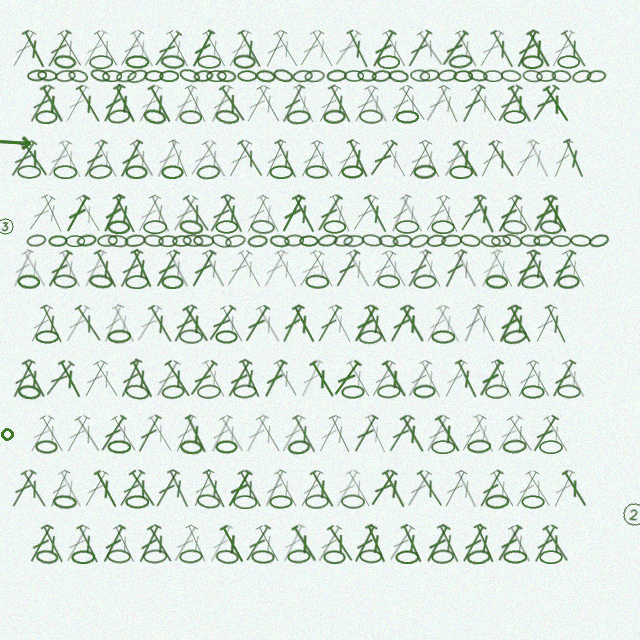chain: (142, 107, 167, 126), (214, 108, 240, 126), (178, 218, 204, 236), (502, 328, 528, 346), (124, 383, 150, 401), (520, 273, 546, 290), (448, 53, 473, 70), (88, 163, 113, 180), (88, 273, 113, 290), (196, 493, 221, 510), (126, 67, 149, 85), (210, 232, 233, 250), (408, 232, 431, 250), (107, 108, 131, 125), (160, 54, 185, 70), (286, 109, 311, 125), (196, 164, 221, 180), (250, 219, 275, 235), (502, 219, 527, 235), (358, 329, 383, 345), (52, 494, 77, 510), (466, 549, 491, 565), (178, 67, 201, 84), (53, 54, 77, 70), (539, 219, 563, 235), (17, 384, 41, 400), (161, 384, 185, 400), (179, 439, 203, 455), (287, 439, 311, 455), (35, 549, 59, 565), (215, 549, 239, 565), (502, 439, 527, 454), (89, 67, 111, 84), (272, 67, 294, 84), (501, 232, 523, 249), (588, 232, 610, 249), (115, 68, 138, 84), (224, 233, 247, 249), (359, 109, 383, 124), (53, 274, 77, 289), (305, 274, 329, 289), (413, 274, 437, 289), (107, 329, 131, 344), (179, 329, 203, 344), (197, 384, 221, 399), (233, 384, 257, 399), (377, 384, 401, 399), (485, 384, 509, 399), (557, 384, 581, 399), (467, 439, 491, 454), (305, 494, 329, 509), (341, 494, 365, 509), (485, 494, 509, 509), (107, 549, 131, 564), (143, 549, 167, 564), (179, 549, 203, 564), (287, 549, 311, 564), (67, 68, 89, 84), (571, 68, 593, 84), (233, 54, 256, 69), (323, 109, 346, 124), (413, 164, 436, 179), (17, 274, 40, 289), (377, 274, 400, 289), (485, 274, 508, 289), (557, 274, 580, 289), (413, 384, 436, 399), (359, 549, 382, 564), (431, 549, 454, 564), (89, 55, 113, 69), (125, 55, 149, 69), (197, 55, 221, 69), (395, 110, 419, 124), (17, 165, 41, 179), (53, 165, 77, 179), (269, 165, 293, 179), (305, 165, 329, 179), (449, 165, 473, 179), (143, 220, 167, 234), (395, 220, 419, 234), (431, 220, 455, 234), (125, 275, 149, 289), (35, 330, 59, 344), (431, 330, 455, 344), (341, 385, 365, 399), (521, 385, 545, 399), (107, 440, 131, 454), (431, 440, 455, 454), (539, 440, 563, 454), (125, 495, 149, 509), (233, 495, 257, 509), (269, 495, 293, 509), (521, 495, 545, 509), (71, 550, 95, 564), (251, 550, 275, 564), (395, 550, 419, 564), (503, 550, 527, 564), (539, 550, 563, 564), (124, 233, 146, 248), (361, 233, 383, 248), (459, 233, 481, 248), (377, 55, 400, 69), (521, 55, 544, 69), (557, 55, 580, 69), (35, 110, 58, 124), (179, 110, 202, 124), (503, 110, 526, 124), (125, 165, 148, 179), (161, 165, 184, 179), (341, 165, 364, 179), (107, 220, 130, 234), (215, 220, 238, 234), (323, 220, 346, 234), (161, 275, 184, 289), (215, 330, 238, 344), (35, 440, 58, 454), (215, 440, 238, 454), (323, 550, 346, 564), (419, 68, 440, 83), (437, 68, 458, 83), (467, 68, 488, 83), (26, 233, 47, 248), (76, 233, 97, 248), (317, 233, 338, 248), (333, 233, 354, 248), (426, 233, 447, 248), (500, 69, 522, 83), (107, 234, 129, 248), (343, 234, 365, 248), (55, 69, 76, 83), (193, 69, 214, 83), (216, 69, 237, 83), (255, 69, 276, 83), (292, 69, 313, 83), (304, 69, 325, 83), (371, 69, 392, 83), (388, 69, 409, 83), (522, 69, 543, 83), (551, 69, 572, 83), (586, 69, 607, 83), (247, 234, 268, 248), (269, 234, 290, 248), (378, 234, 399, 248), (480, 234, 501, 248), (182, 234, 204, 247), (326, 69, 347, 82), (97, 234, 118, 247), (143, 234, 164, 247), (193, 234, 214, 247), (392, 234, 413, 247), (441, 234, 462, 247), (570, 234, 591, 247), (27, 69, 47, 82), (37, 69, 57, 82), (357, 69, 377, 82), (410, 69, 430, 82), (284, 234, 304, 247), (520, 234, 540, 247), (533, 234, 553, 247), (206, 70, 227, 82), (102, 70, 122, 82), (144, 70, 164, 82), (159, 70, 179, 82), (237, 70, 257, 82), (344, 70, 364, 82), (453, 70, 473, 82), (483, 70, 503, 82), (536, 70, 556, 82), (48, 235, 68, 247), (65, 235, 85, 247), (158, 235, 178, 247), (172, 235, 192, 247), (299, 235, 319, 247), (491, 235, 511, 247), (551, 235, 571, 247)
double: (41, 359, 77, 399), (365, 138, 400, 179), (185, 358, 220, 399), (329, 358, 364, 399), (468, 83, 502, 125), (540, 83, 574, 125), (6, 138, 40, 180), (330, 28, 364, 69), (414, 28, 448, 69), (216, 83, 250, 124), (396, 83, 430, 124), (528, 83, 562, 124), (18, 138, 52, 179), (24, 193, 58, 234), (180, 193, 214, 234), (72, 303, 106, 344), (204, 303, 238, 344), (126, 468, 160, 509), (366, 468, 400, 509), (324, 523, 358, 564), (384, 523, 418, 564), (54, 28, 87, 70), (270, 28, 303, 70), (474, 28, 507, 70), (558, 28, 591, 70), (450, 138, 483, 180), (486, 138, 519, 180), (168, 193, 201, 235), (294, 248, 327, 290), (366, 248, 399, 290), (132, 303, 165, 345), (180, 303, 213, 345), (240, 303, 273, 345), (90, 358, 123, 400), (162, 358, 195, 400), (72, 413, 105, 455), (108, 413, 141, 455), (216, 413, 249, 455), (384, 413, 417, 455), (432, 413, 465, 455), (504, 413, 537, 455), (528, 413, 561, 455), (540, 413, 573, 455), (18, 468, 51, 510), (402, 468, 435, 510), (144, 523, 177, 565), (150, 29, 184, 69), (438, 28, 471, 69), (186, 138, 219, 179), (348, 193, 381, 234), (456, 193, 489, 234), (222, 248, 255, 289), (96, 413, 129, 454), (414, 468, 447, 509), (540, 523, 573, 564), (7, 28, 39, 70), (127, 28, 159, 70), (199, 28, 231, 70), (367, 28, 399, 70), (379, 28, 411, 70), (403, 28, 435, 70), (523, 28, 555, 70), (25, 83, 57, 125), (73, 83, 105, 125), (133, 83, 165, 125), (241, 83, 273, 125), (253, 83, 285, 125), (349, 83, 381, 125), (361, 83, 393, 125), (421, 83, 453, 125), (493, 83, 525, 125), (43, 138, 75, 180), (127, 138, 159, 180), (199, 138, 231, 180), (223, 138, 255, 180), (331, 138, 363, 180), (379, 138, 411, 180), (403, 138, 435, 180), (439, 138, 471, 180), (61, 193, 93, 235), (73, 193, 105, 235), (205, 193, 237, 235), (505, 193, 537, 235), (19, 248, 51, 290), (43, 248, 75, 290), (151, 248, 183, 290), (187, 248, 219, 290), (331, 248, 363, 290), (343, 248, 375, 290), (379, 248, 411, 290), (511, 248, 543, 290), (547, 248, 579, 290), (61, 303, 93, 345), (145, 303, 177, 345), (253, 303, 285, 345), (349, 303, 381, 345), (385, 303, 417, 345), (397, 303, 429, 345), (433, 303, 465, 345), (151, 358, 183, 400), (223, 358, 255, 400), (307, 358, 339, 400), (343, 358, 375, 400), (379, 358, 411, 400), (403, 358, 435, 400), (523, 358, 555, 400), (547, 358, 579, 400), (25, 413, 57, 455), (61, 413, 93, 455), (253, 413, 285, 455), (289, 413, 321, 455), (349, 413, 381, 455), (397, 413, 429, 455), (421, 413, 453, 455), (7, 468, 39, 510), (55, 468, 87, 510), (79, 468, 111, 510), (223, 468, 255, 510), (307, 468, 339, 510), (331, 468, 363, 510), (343, 468, 375, 510), (487, 468, 519, 510), (61, 523, 93, 565), (169, 523, 201, 565), (217, 523, 249, 565), (313, 523, 345, 565), (421, 523, 453, 565), (457, 523, 489, 565), (91, 28, 123, 69), (115, 28, 147, 69), (295, 28, 327, 69), (235, 138, 267, 179), (313, 193, 345, 234), (421, 193, 453, 234), (145, 413, 177, 454), (457, 413, 489, 454), (493, 413, 525, 454), (115, 468, 147, 509), (523, 468, 555, 509), (559, 468, 591, 509), (241, 523, 273, 564), (289, 523, 321, 564), (493, 523, 525, 564), (19, 28, 50, 70), (43, 28, 74, 70), (79, 28, 110, 70), (163, 28, 194, 70), (187, 28, 218, 70), (235, 28, 266, 70), (307, 28, 338, 70), (547, 28, 578, 70), (37, 83, 68, 125), (61, 83, 92, 125), (145, 83, 176, 125), (169, 83, 200, 125), (277, 83, 308, 125), (313, 83, 344, 125), (325, 83, 356, 125), (457, 83, 488, 125), (505, 83, 536, 125), (79, 138, 110, 180), (115, 138, 146, 180), (295, 138, 326, 180), (511, 138, 542, 180), (133, 193, 164, 235), (241, 193, 272, 235), (277, 193, 308, 235), (289, 193, 320, 235), (361, 193, 392, 235), (397, 193, 428, 235), (493, 193, 524, 235), (529, 193, 560, 235), (541, 193, 572, 235), (79, 248, 110, 290), (91, 248, 122, 290), (115, 248, 146, 290), (163, 248, 194, 290), (199, 248, 230, 290), (235, 248, 266, 290), (259, 248, 290, 290), (307, 248, 338, 290), (403, 248, 434, 290), (451, 248, 482, 290), (559, 248, 590, 290), (25, 303, 56, 345), (109, 303, 140, 345), (169, 303, 200, 345), (217, 303, 248, 345), (289, 303, 320, 345), (313, 303, 344, 345), (325, 303, 356, 345), (361, 303, 392, 345), (469, 303, 500, 345), (505, 303, 536, 345), (19, 358, 50, 400), (55, 358, 86, 400), (79, 358, 110, 400), (127, 358, 158, 400), (199, 358, 230, 400), (259, 358, 290, 400), (367, 358, 398, 400), (439, 358, 470, 400), (559, 358, 590, 400), (133, 413, 164, 455), (241, 413, 272, 455), (277, 413, 308, 455), (91, 468, 122, 510), (151, 468, 182, 510), (235, 468, 266, 510), (271, 468, 302, 510), (379, 468, 410, 510), (439, 468, 470, 510), (475, 468, 506, 510), (511, 468, 542, 510), (25, 523, 56, 565), (205, 523, 236, 565), (253, 523, 284, 565), (349, 523, 380, 565), (505, 523, 536, 565), (98, 82, 128, 125), (524, 137, 554, 180), (98, 192, 128, 235), (218, 192, 248, 235), (476, 247, 506, 290), (164, 467, 194, 510), (278, 522, 308, 565), (434, 522, 464, 565), (271, 358, 302, 399), (475, 358, 506, 399), (37, 413, 68, 454), (224, 28, 254, 70), (260, 28, 290, 70), (452, 28, 482, 70), (488, 28, 518, 70), (512, 28, 542, 70), (110, 83, 140, 125), (206, 83, 236, 125), (386, 83, 416, 125), (56, 138, 86, 180), (92, 138, 122, 180), (152, 138, 182, 180), (308, 138, 338, 180), (110, 193, 140, 235), (254, 193, 284, 235), (56, 248, 86, 290), (272, 248, 302, 290), (416, 248, 446, 290), (440, 248, 470, 290), (488, 248, 518, 290), (524, 248, 554, 290), (422, 303, 452, 345), (494, 303, 524, 345), (530, 303, 560, 345), (8, 358, 38, 400), (296, 358, 326, 400), (416, 358, 446, 400), (452, 358, 482, 400), (512, 358, 542, 400), (206, 413, 236, 455), (314, 413, 344, 455), (200, 468, 230, 510), (296, 468, 326, 510), (452, 468, 482, 510), (548, 468, 578, 510), (38, 523, 68, 565), (98, 523, 128, 565), (110, 523, 140, 565), (134, 523, 164, 565), (530, 523, 560, 565), (260, 137, 289, 180), (344, 137, 373, 180), (560, 137, 589, 180), (38, 192, 67, 235), (146, 192, 175, 235), (326, 192, 355, 235), (386, 192, 415, 235), (8, 247, 37, 290), (128, 247, 157, 290), (116, 357, 145, 400), (236, 357, 265, 400), (488, 357, 517, 400), (170, 412, 199, 455), (470, 412, 499, 455), (188, 467, 217, 510), (260, 467, 289, 510), (182, 522, 211, 565), (362, 522, 391, 565), (398, 522, 427, 565), (344, 28, 373, 70), (182, 83, 211, 125), (290, 83, 319, 125), (272, 138, 301, 180), (416, 138, 445, 180), (476, 138, 505, 180), (434, 193, 463, 235), (38, 303, 67, 345), (278, 303, 307, 345), (542, 303, 571, 345), (182, 413, 211, 455), (326, 413, 355, 455), (362, 413, 391, 455), (74, 523, 103, 565), (165, 137, 193, 180), (99, 302, 127, 345), (459, 302, 487, 345), (471, 522, 499, 565), (435, 83, 463, 125), (471, 193, 499, 235), (45, 468, 73, 510), (549, 138, 576, 180)
noise: (0, 134, 33, 151), (620, 500, 640, 528), (0, 216, 16, 237), (0, 427, 15, 442)
